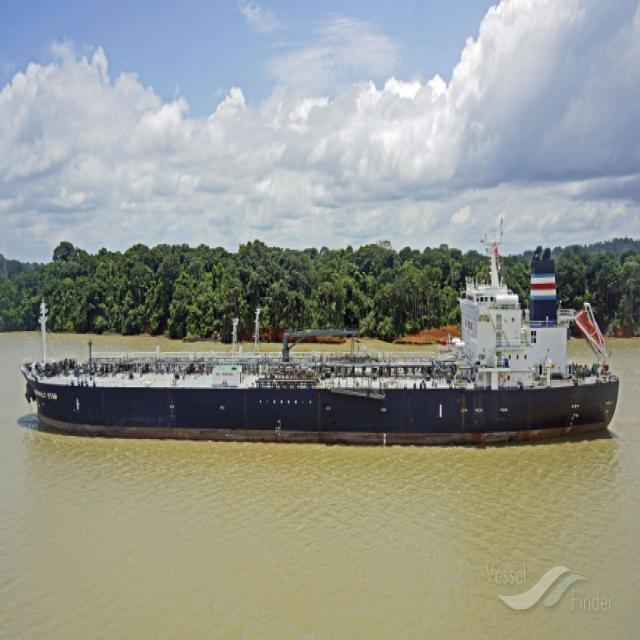OCR: (33, 386, 65, 406)
